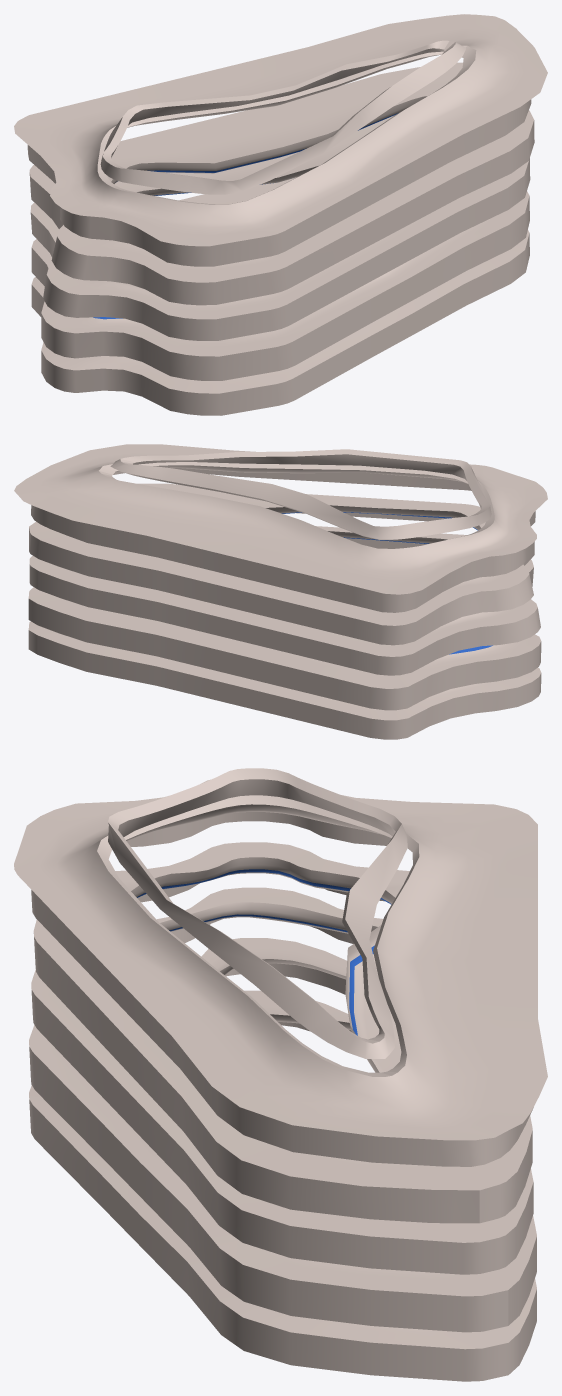
File: SM_Lobby_Walls.fbx
3 views of the same model, one above another, from view 1: azimuth 30°, elevation 25°; view 2: azimuth 150°, elevation 25°; view 3: azimuth 270°, elevation 25° (orthographic). The views are drawn at different scales.
Visible parts, largest first — view 1: BLD_Lobby; view 2: BLD_Lobby; view 3: BLD_Lobby.
Boxes of the visible parts, x1,y1,x2,y2 form: BLD_Lobby: (14,14,547,415); BLD_Lobby: (14,444,547,739); BLD_Lobby: (14,768,547,1381).
Bounding box in the file's own units: 5379 × 2025 × 3281.
